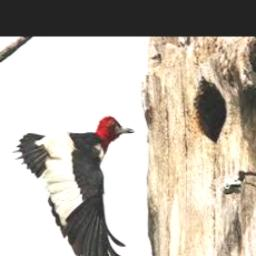Woodpecker: (11, 116, 134, 256)
